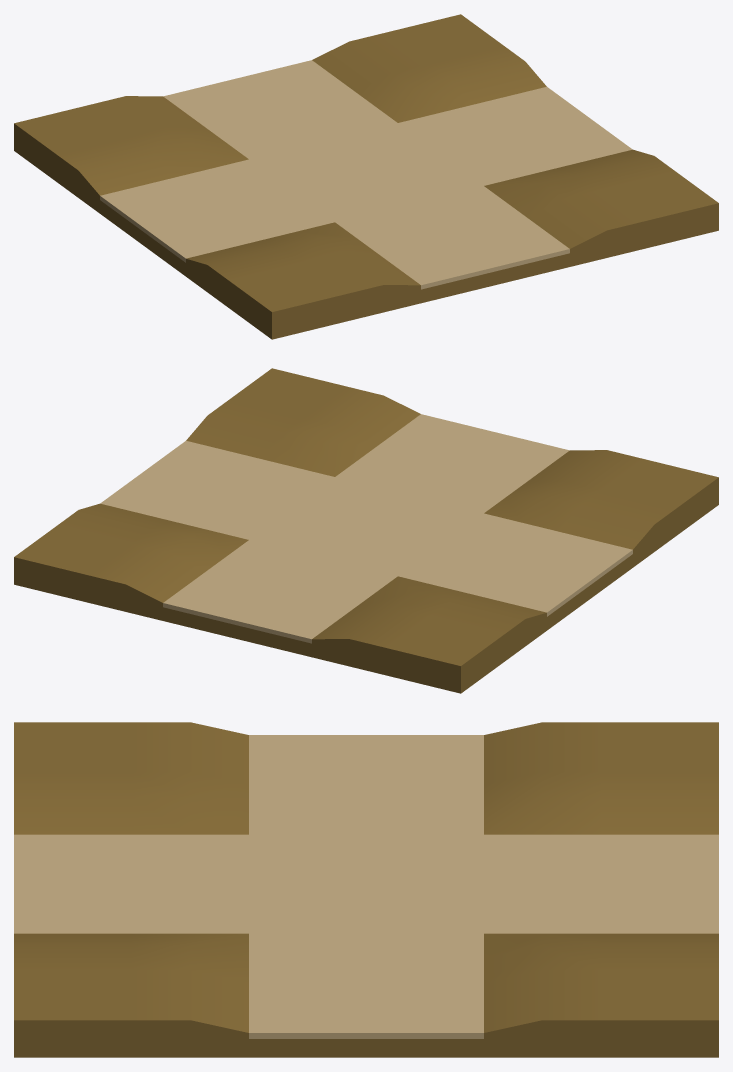
The model's file is oldRoad_CrossRoad.fbx.
3 renders of one model, top to bottom at view 1: azimuth 30°, elevation 25°; view 2: azimuth 150°, elevation 25°; view 3: azimuth 270°, elevation 25°, orthographic. The views are drawn at different scales.
Visible parts, largest first — view 1: yuka1, miti3; view 2: yuka1, miti3; view 3: miti3, yuka1.
Boxes of the visible parts, bbox=[...] form: yuka1: bbox=[14, 14, 718, 339]; miti3: bbox=[100, 60, 632, 289]; yuka1: bbox=[14, 368, 718, 693]; miti3: bbox=[100, 414, 632, 643]; miti3: bbox=[14, 735, 718, 1038]; yuka1: bbox=[14, 722, 718, 1057].
Size of the model in its own units: 1700 by 100 by 1700.
